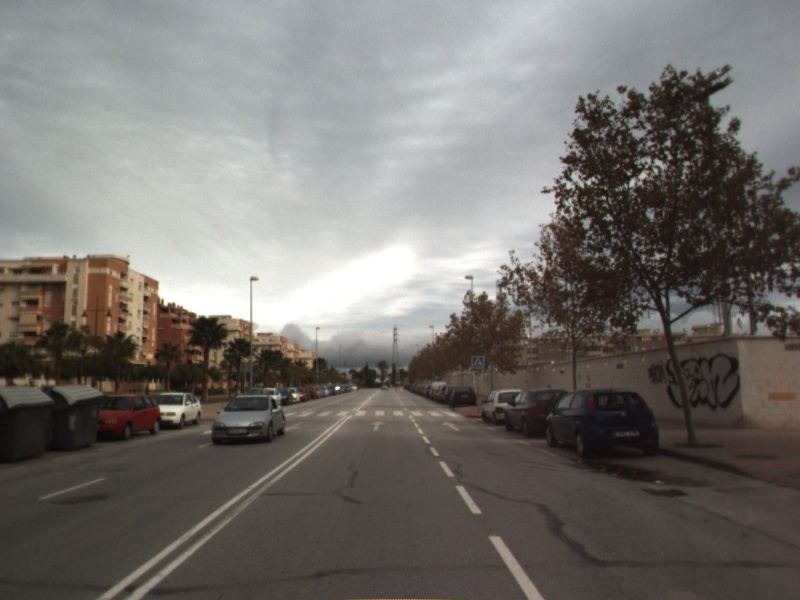STRAIGHT: (440, 419, 462, 433), (368, 419, 388, 433)
